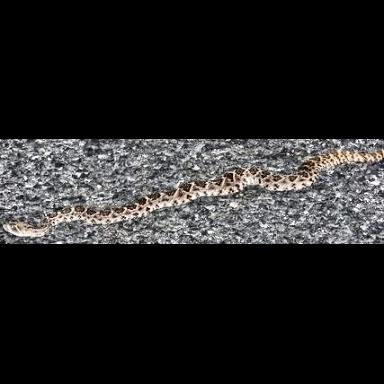snake: (0, 141, 384, 245)
